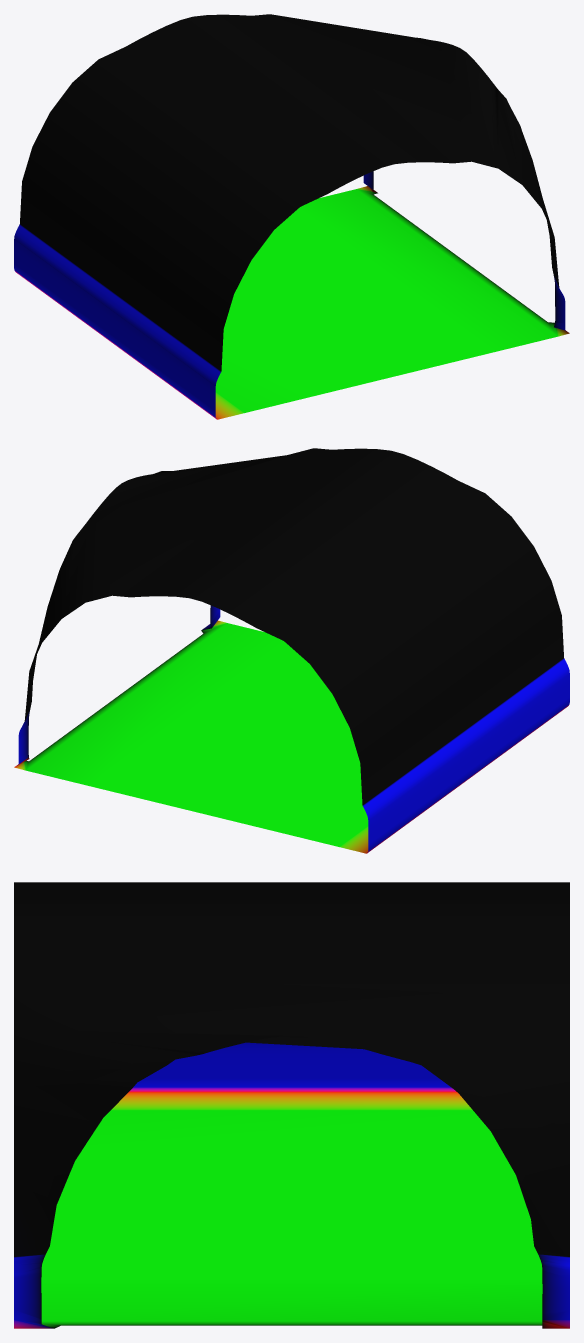
Rendered from GiantTunnelVBFR.fbx.
3 renders of one model, top to bottom at view 1: azimuth 30°, elevation 25°; view 2: azimuth 150°, elevation 25°; view 3: azimuth 270°, elevation 25°, orthographic. The views are drawn at different scales.
Visible parts, largest first — view 1: GiantTunnelVBFR; view 2: GiantTunnelVBFR; view 3: GiantTunnelVBFR.
Part boxes in pixels (box(x1,y1,x2,y2)): GiantTunnelVBFR: box(14, 14, 569, 419); GiantTunnelVBFR: box(14, 448, 569, 853); GiantTunnelVBFR: box(14, 882, 569, 1328).
Size of the model in its own units: 2029 by 1162 by 2000.
